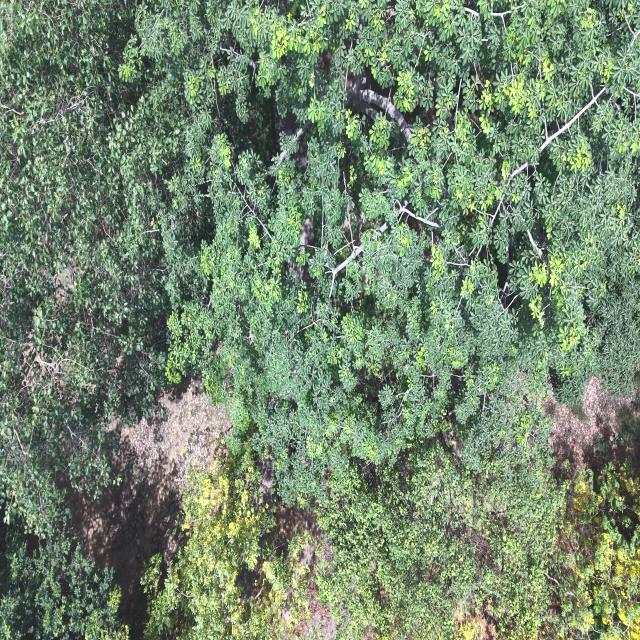DRY_AREA: (69, 380, 231, 639), (69, 380, 230, 637), (70, 380, 230, 638), (545, 378, 639, 475), (275, 505, 337, 639)
VEGETATION_TREE: (0, 0, 639, 638), (127, 0, 639, 637), (136, 3, 639, 499), (0, 0, 167, 639), (0, 0, 167, 534), (143, 454, 308, 639), (0, 522, 128, 639), (565, 464, 639, 638)
